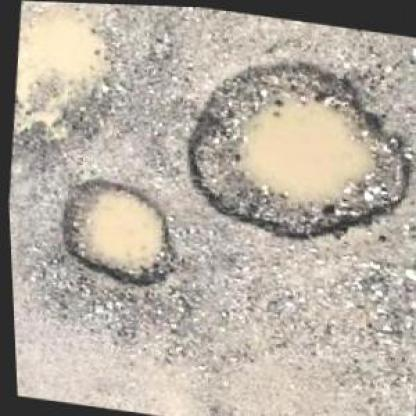pothole: (167, 37, 414, 258), (47, 169, 179, 291)
